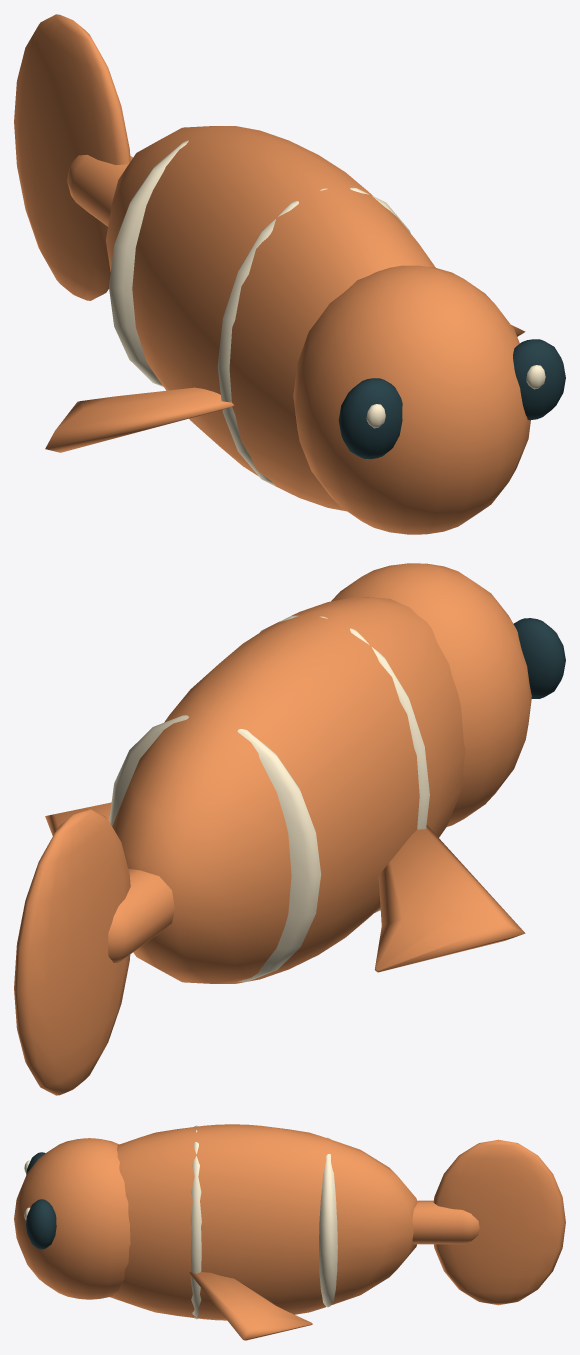
File: org_reeffish.glb
The picture shows the model from 3 angles, top to bottom: view 1: azimuth 30°, elevation 25°; view 2: azimuth 150°, elevation 25°; view 3: azimuth 270°, elevation 25°; orthographic projection. The views are drawn at different scales.
Parts seen in each view (by area): view 1: Body, Head, Tail, Fin_L, Eye_L, Eye_R; view 2: Body, Tail, Head, Fin_L, Eye_L; view 3: Body, Tail, Head, Fin_R, Eye_R.
Part boxes in pixels (x1=…): Body: x1=106, y1=126, x2=435, y2=511; Head: x1=293, y1=265, x2=530, y2=534; Tail: x1=14, y1=14, x2=132, y2=300; Fin_L: x1=45, y1=387, x2=233, y2=452; Eye_L: x1=338, y1=378, x2=402, y2=459; Eye_R: x1=513, y1=339, x2=565, y2=420; Body: x1=109, y1=597, x2=465, y2=983; Tail: x1=14, y1=809, x2=174, y2=1095; Head: x1=331, y1=563, x2=531, y2=826; Fin_L: x1=374, y1=825, x2=525, y2=972; Eye_L: x1=513, y1=618, x2=565, y2=698; Body: x1=110, y1=1124, x2=417, y2=1320; Tail: x1=412, y1=1139, x2=565, y2=1305; Head: x1=14, y1=1138, x2=130, y2=1299; Fin_R: x1=189, y1=1272, x2=312, y2=1340; Eye_R: x1=24, y1=1199, x2=56, y2=1249.
Bounding box in the file's own units: 0.8908 × 0.55 × 1.47.
